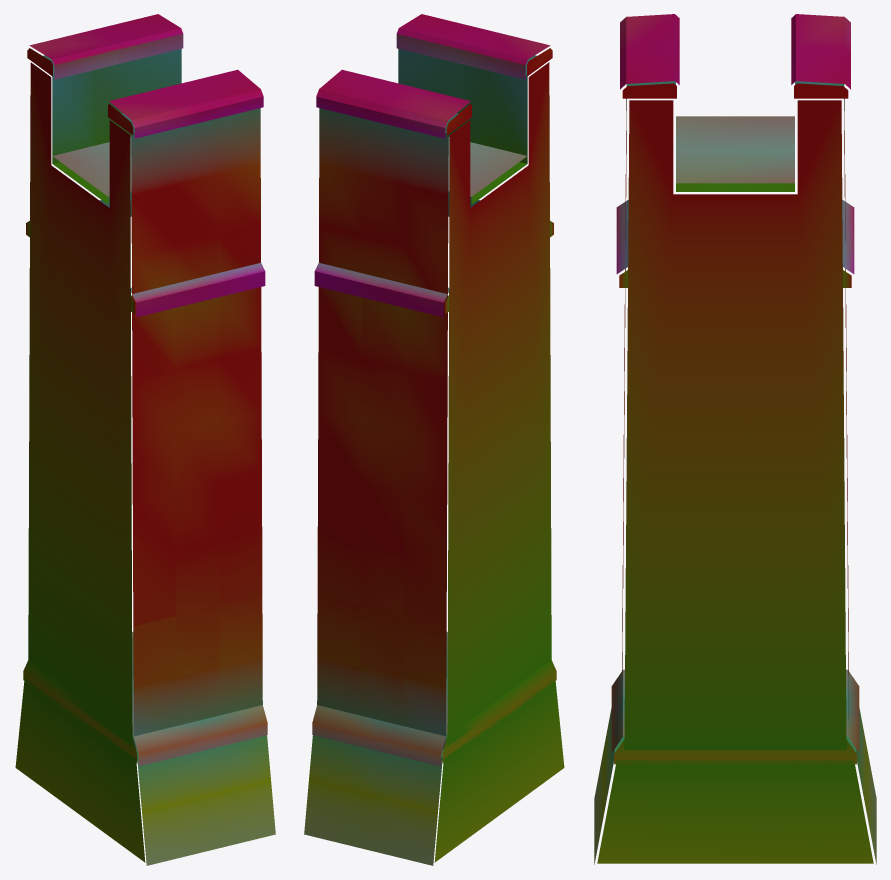
Rendered from wall_high_arm.glb.
3 views of the same model, side by side, from view 1: azimuth 30°, elevation 25°; view 2: azimuth 150°, elevation 25°; view 3: azimuth 270°, elevation 25° (orthographic). The views are drawn at different scales.
Visible parts, largest first — view 1: wall_high_arm_LOD0; view 2: wall_high_arm_LOD0; view 3: wall_high_arm_LOD0.
Boxes of the visible parts, box(x1,y1,x2,y2) form: wall_high_arm_LOD0: box(15, 14, 275, 865); wall_high_arm_LOD0: box(304, 14, 564, 865); wall_high_arm_LOD0: box(594, 14, 876, 864).
Size of what is drawn, in the model's own units: 0.506 by 2.76 by 0.9.
